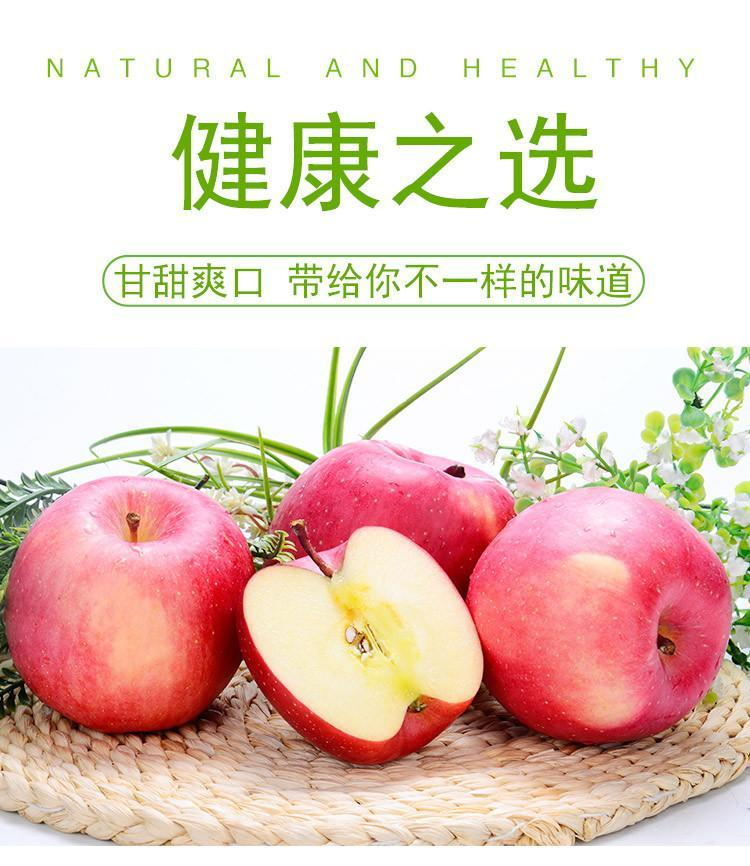apple: (468, 488, 729, 749), (5, 477, 257, 735), (266, 441, 515, 595)
